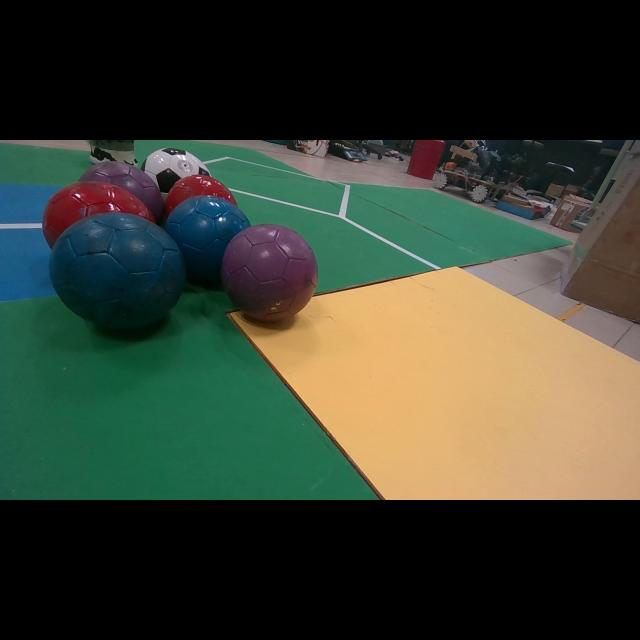B: (49, 212, 185, 328), (165, 195, 250, 284)
P: (221, 224, 318, 321), (79, 161, 164, 223)
R: (42, 181, 156, 248), (165, 174, 238, 216)
